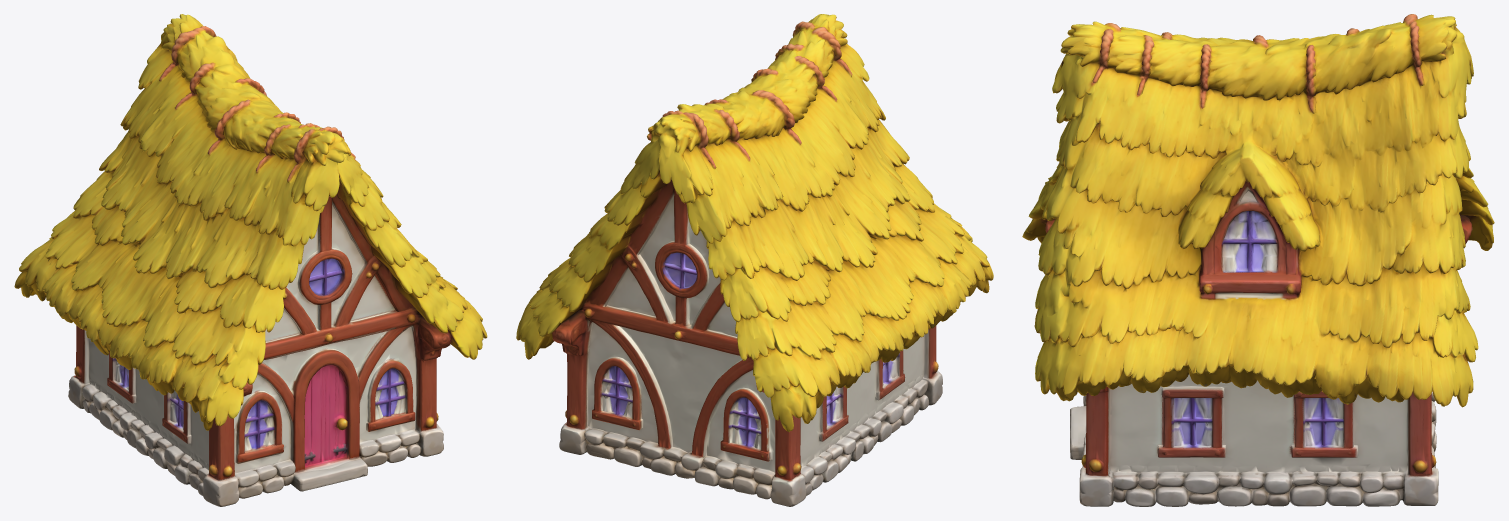
Rendered from house-a-hollow.glb.
3 views of the same model, side by side, from view 1: azimuth 30°, elevation 25°; view 2: azimuth 150°, elevation 25°; view 3: azimuth 270°, elevation 25° (orthographic). The views are drawn at different scales.
Parts seen in each view (by area): view 1: tripo_node_273b562f-8121-411a-a995-5e439c0e1e7b; view 2: tripo_node_273b562f-8121-411a-a995-5e439c0e1e7b; view 3: tripo_node_273b562f-8121-411a-a995-5e439c0e1e7b.
Part boxes in pixels (x1,y1,x2,y2): tripo_node_273b562f-8121-411a-a995-5e439c0e1e7b: (14,14,487,506); tripo_node_273b562f-8121-411a-a995-5e439c0e1e7b: (516,14,993,506); tripo_node_273b562f-8121-411a-a995-5e439c0e1e7b: (1022,14,1494,506).
Size of the model in its own units: 0.9127 by 0.9786 by 0.9818.
2 materials, 1 textured.
